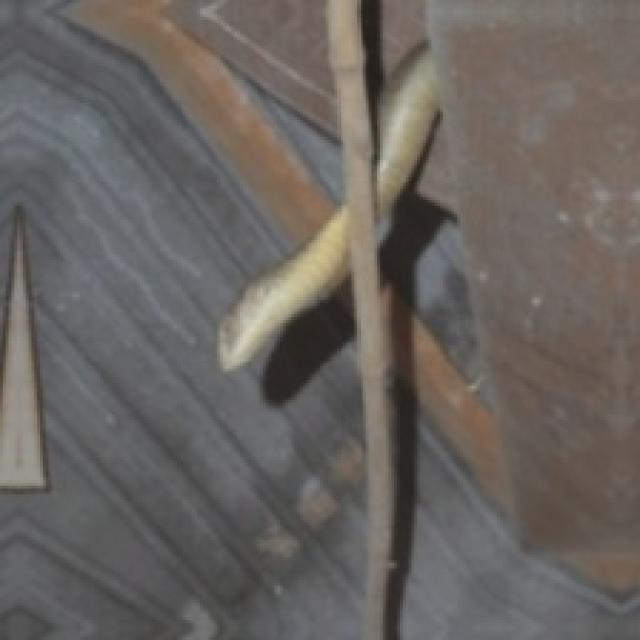king cobra: (217, 206, 346, 369), (377, 46, 437, 217)
